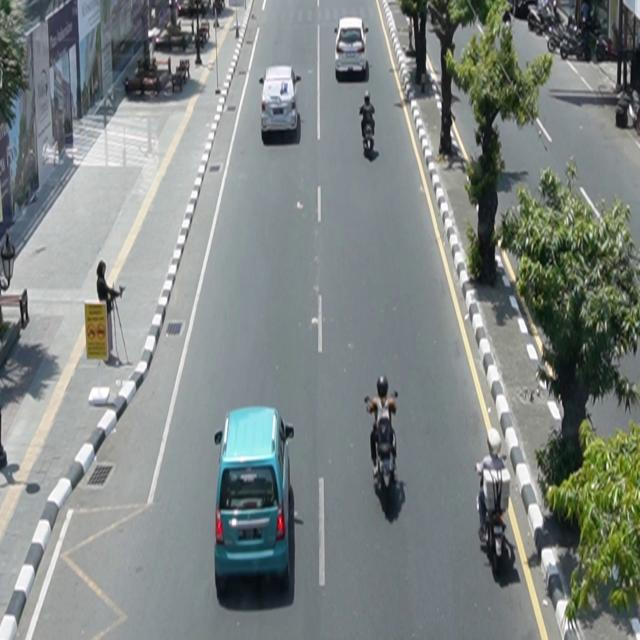car: (214, 406, 296, 600), (259, 66, 302, 135), (335, 17, 370, 79)
